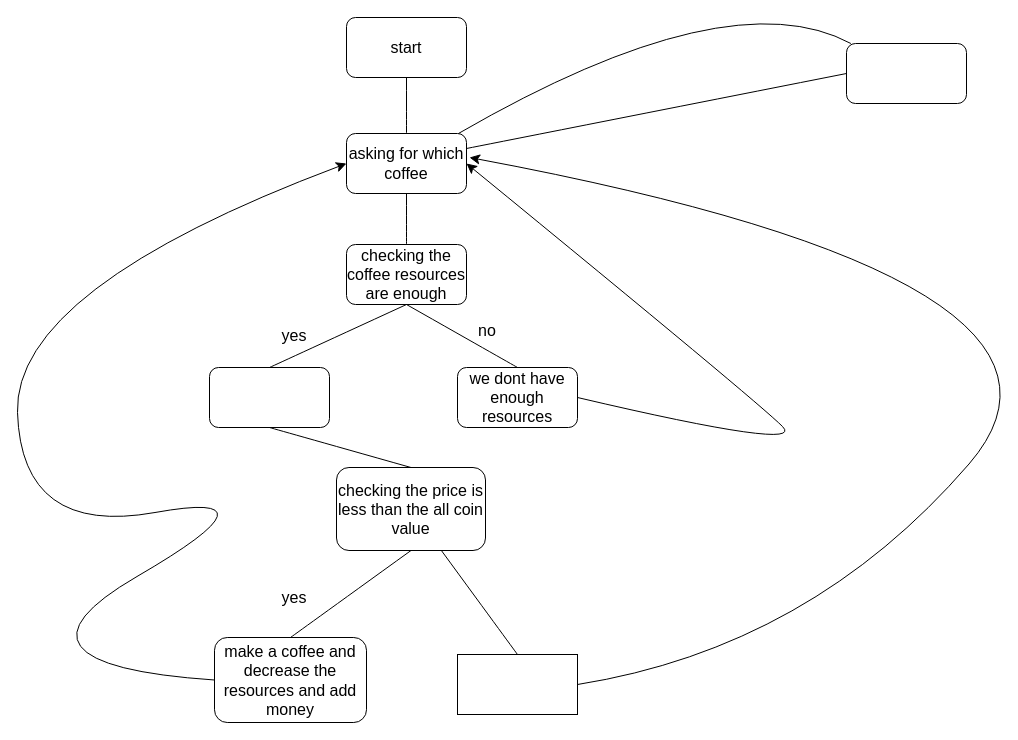
Some shapes in this 1018 by 740 pixel diagram are drawn without their labels. The centre of each missing label's shape, as x and y in pixels:
check resources: point 906,73
dont have enough money: point 517,684
inserting coin: point 269,397
